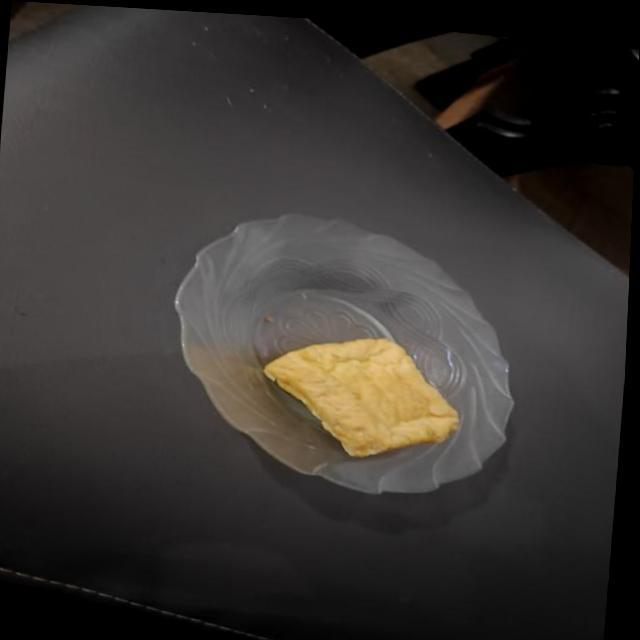tahu_goreng: (263, 338, 458, 456)
